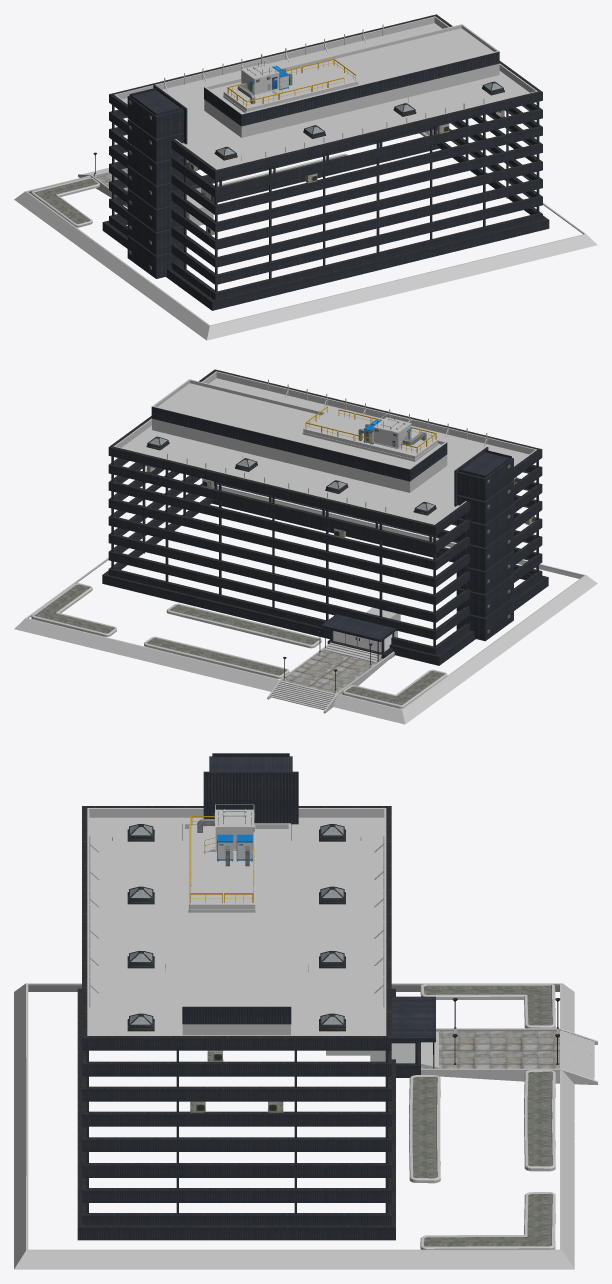
The model's file is u2SEBuild8.gltf.
The picture shows the model from 3 angles, top to bottom: view 1: azimuth 30°, elevation 25°; view 2: azimuth 150°, elevation 25°; view 3: azimuth 270°, elevation 25°; orthographic projection. The views are drawn at different scales.
Parts seen in each view (by area): view 1: u2SEBuild8; view 2: u2SEBuild8; view 3: u2SEBuild8.
Part boxes in pixels (x1,y1,x2,y2): u2SEBuild8: [14, 14, 597, 340]; u2SEBuild8: [14, 369, 597, 724]; u2SEBuild8: [14, 753, 597, 1269].
Size of the model in its own units: 27.91 by 12.94 by 24.81.
